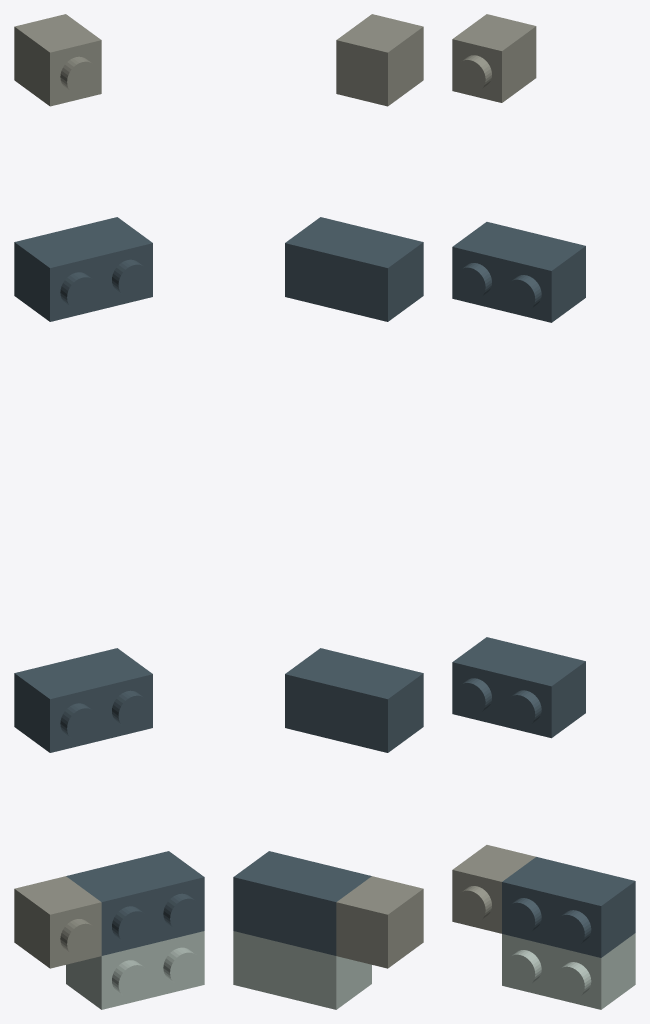
The model's file is current.glb.
3 renders of one model, left to right at view 1: azimuth 30°, elevation 25°; view 2: azimuth 150°, elevation 25°; view 3: azimuth 330°, elevation 25°, orthographic. The views are drawn at different scales.
Parts seen in each view (by area): view 1: world; view 2: world; view 3: world.
Part boxes in pixels (x1,y1,x2,y2): world: (14, 14, 204, 1009); world: (233, 14, 423, 1009); world: (452, 14, 635, 1009).
Bounding box in the file's own units: 24 × 144 × 11.4.
